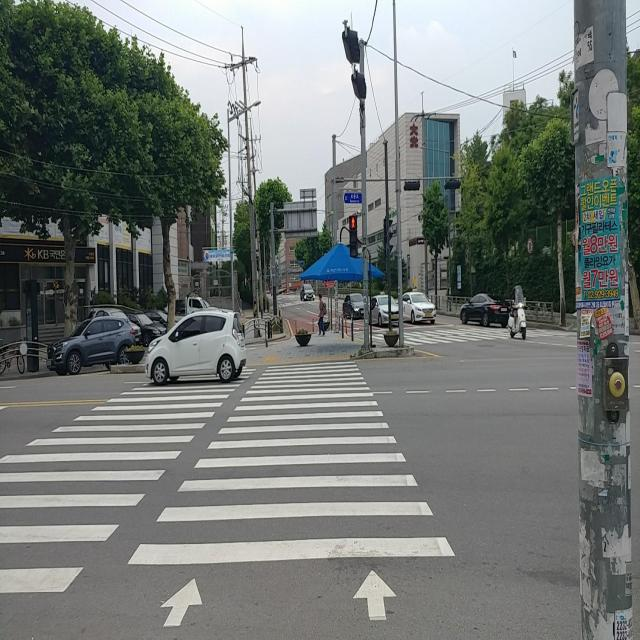빨간불: (348, 215, 358, 258)
횡단보도: (0, 359, 453, 640), (372, 326, 570, 349)
